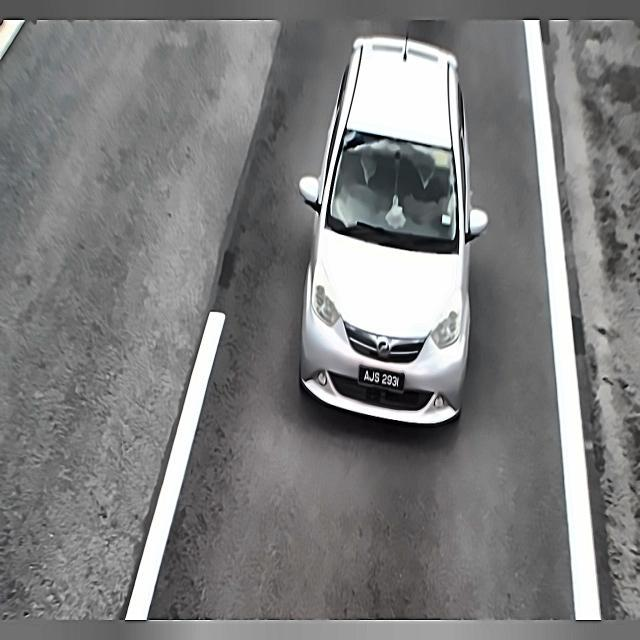car: (353, 358, 408, 393)
